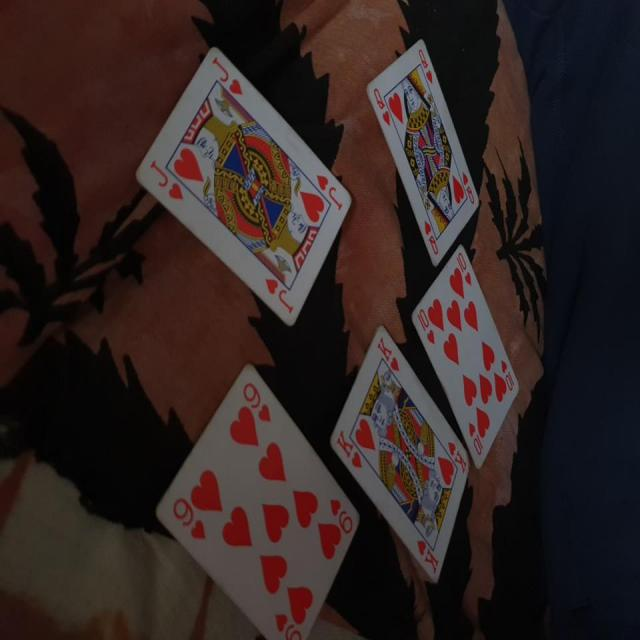10 Hearts: (413, 244, 524, 476)
9 Hearts: (146, 358, 359, 631)
J Hearts: (128, 45, 358, 330)
K Hearts: (327, 323, 472, 592)
Q Hearts: (374, 38, 481, 268)
